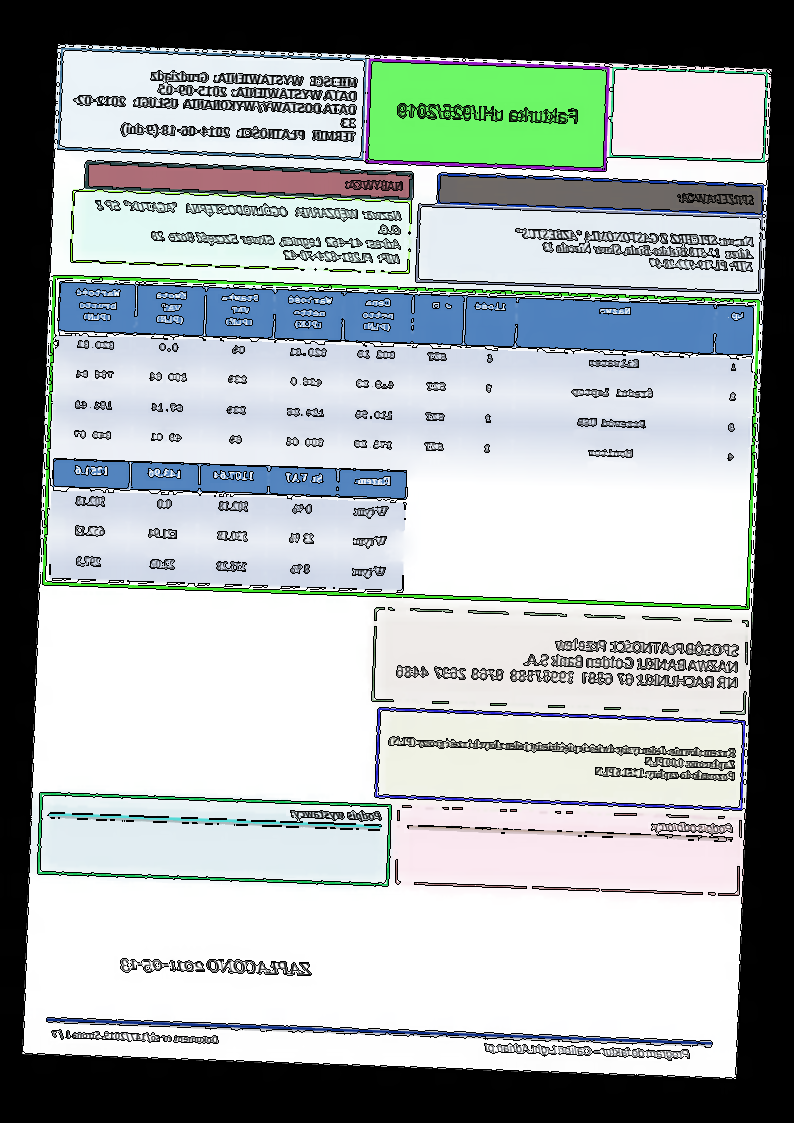Table: (53, 279, 756, 480), (48, 457, 408, 594)
TextBox: (68, 64, 360, 145), (394, 629, 742, 694), (91, 197, 405, 268), (386, 733, 738, 783), (512, 225, 756, 275), (120, 951, 314, 982), (482, 1038, 692, 1064), (394, 100, 581, 128), (51, 1026, 220, 1047), (289, 804, 384, 826), (650, 818, 736, 838), (675, 188, 758, 208), (344, 176, 406, 195)
